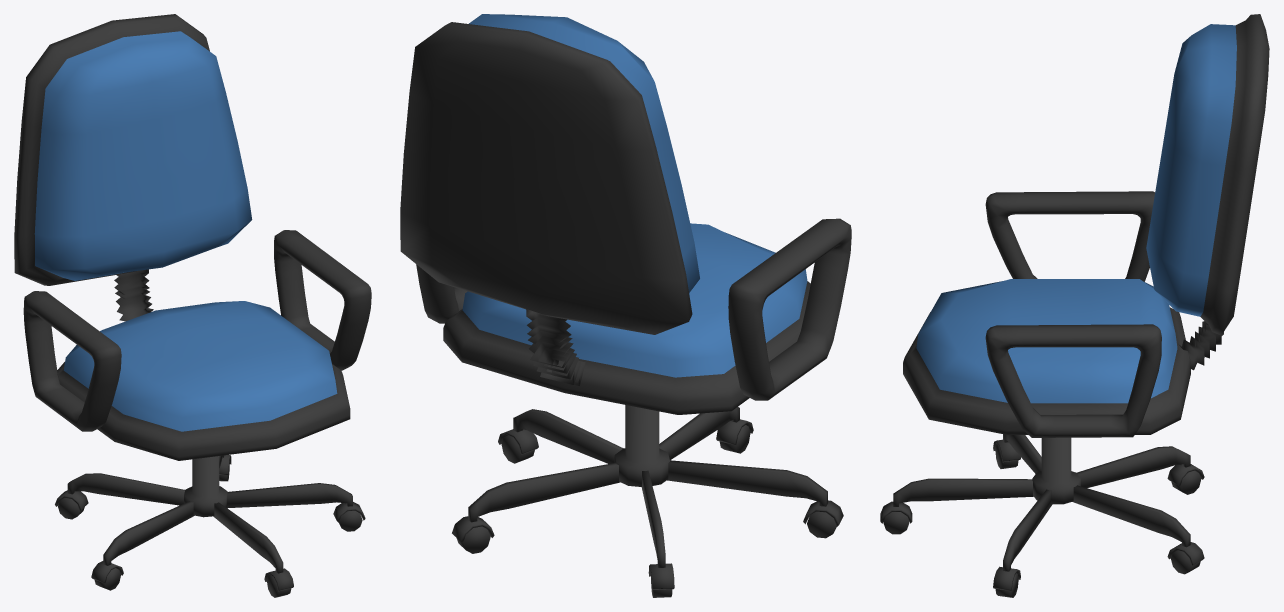
Rendered from chair (1).fbx.
3 renders of one model, left to right at view 1: azimuth 30°, elevation 25°; view 2: azimuth 150°, elevation 25°; view 3: azimuth 270°, elevation 25°, orthographic. The views are drawn at different scales.
Parts seen in each view (by area): view 1: OfficeChair; view 2: OfficeChair; view 3: OfficeChair.
Part boxes in pixels (bbox=[...]): OfficeChair: bbox=[14, 14, 371, 597]; OfficeChair: bbox=[400, 14, 851, 597]; OfficeChair: bbox=[880, 14, 1269, 597].
Size of the model in its own units: 58.65 by 91.64 by 65.6.
